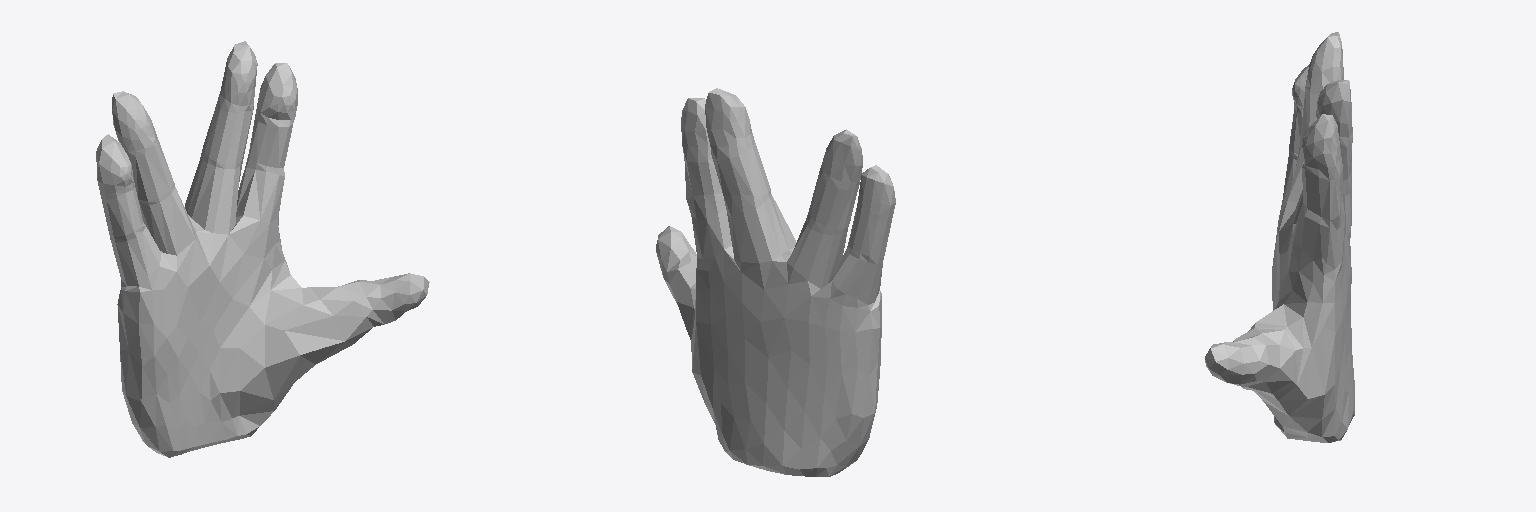
The model's file is MAO_SPOCK.obj.
The picture shows the model from 3 angles: view 1: azimuth 30°, elevation 25°; view 2: azimuth 150°, elevation 25°; view 3: azimuth 270°, elevation 25°; orthographic projection.
Visible parts, largest first — view 1: mao_dir:mao_dir; view 2: mao_dir:mao_dir; view 3: mao_dir:mao_dir.
Boxes of the visible parts, <box> form: mao_dir:mao_dir: <box>96,41,429,457</box>; mao_dir:mao_dir: <box>656,88,895,476</box>; mao_dir:mao_dir: <box>1205,32,1354,442</box>.
Size of the model in its own units: 192 by 239 by 88.84.